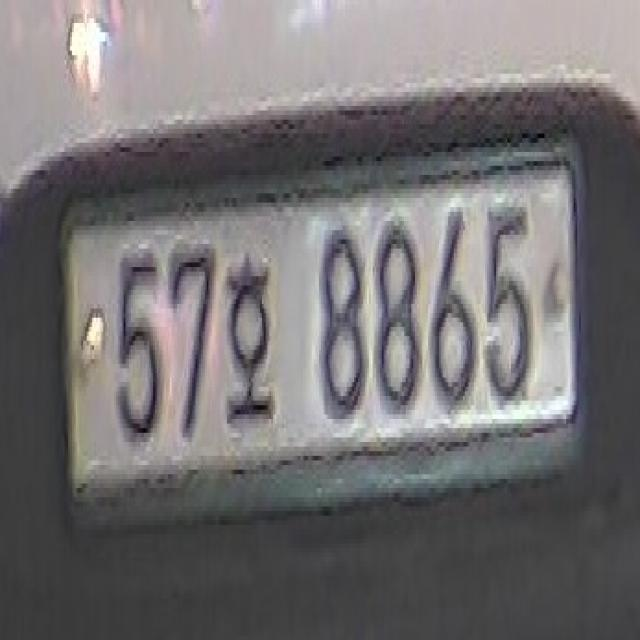5: (484, 195, 530, 408), (114, 244, 162, 446)
6: (428, 200, 478, 416)
7: (167, 233, 215, 448)
8: (372, 206, 422, 418), (318, 213, 366, 424)
ho: (222, 250, 278, 440)
license_plate: (56, 130, 596, 547)
